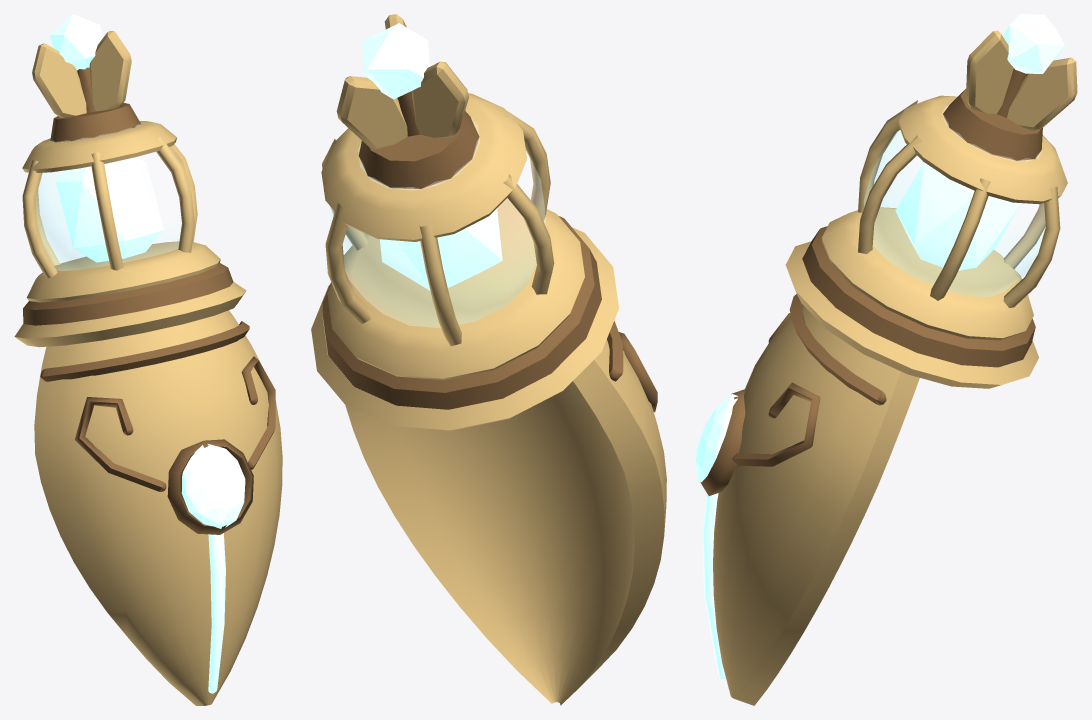
The model's file is marker.glb.
3 renders of one model, left to right at view 1: azimuth 30°, elevation 25°; view 2: azimuth 150°, elevation 25°; view 3: azimuth 270°, elevation 25°, orthographic. The views are drawn at different scales.
Visible parts, largest first — view 1: nib; view 2: nib; view 3: nib.
Boxes of the visible parts, x1,y1,x2,y2 form: nib: [14, 14, 282, 705]; nib: [311, 14, 666, 705]; nib: [695, 14, 1077, 705].
Bounding box in the file's own units: 0.1995 × 0.4785 × 0.2402.
